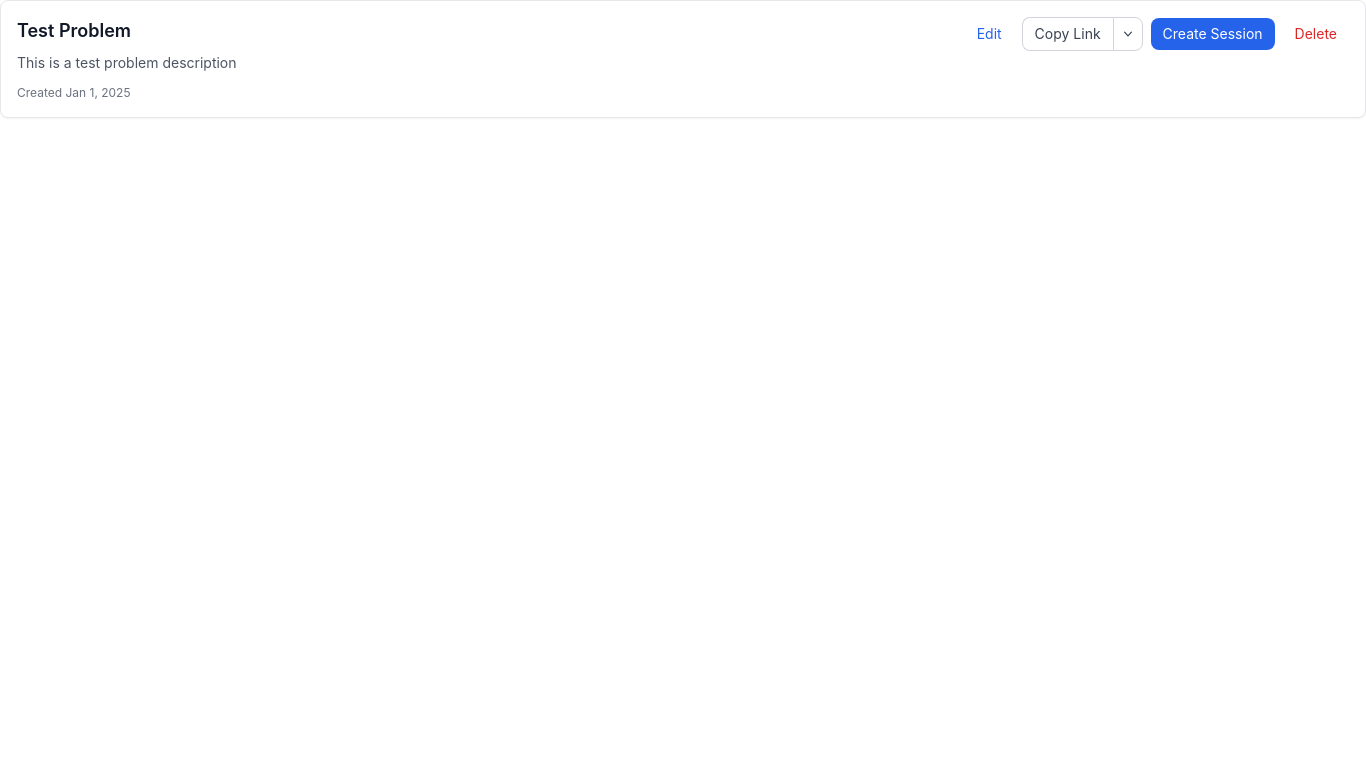
ProblemCard › List View › shows confirmation dialog when Delete button is clicked
Step 1. Click the button "Delete" → (1316, 34), box [1283,18,1349,50]
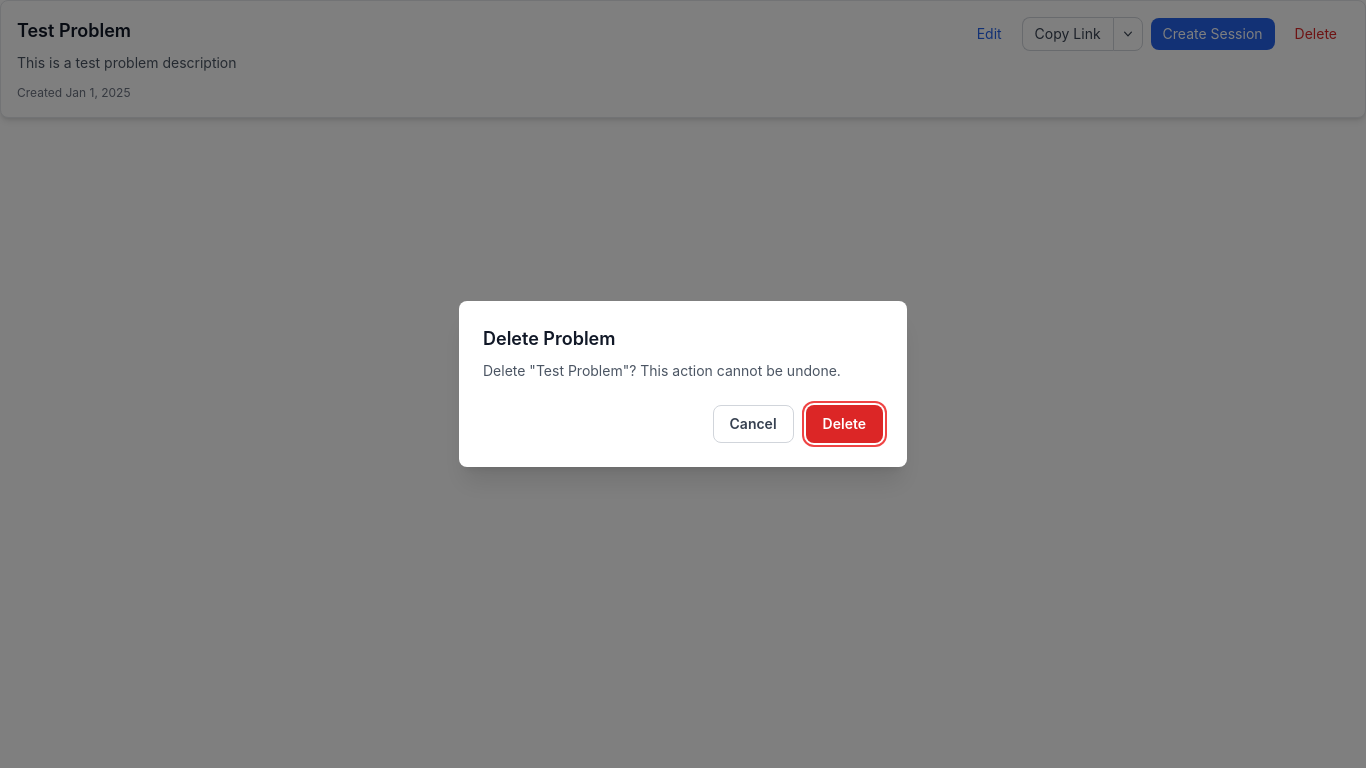
expect the dialog is shown: met
expect the heading "Delete Problem" is shown: met, box [483,328,616,349]
expect the text "Delete \"Test Problem\"? This action cannot be undone." is shown: met, box [483,361,883,381]
